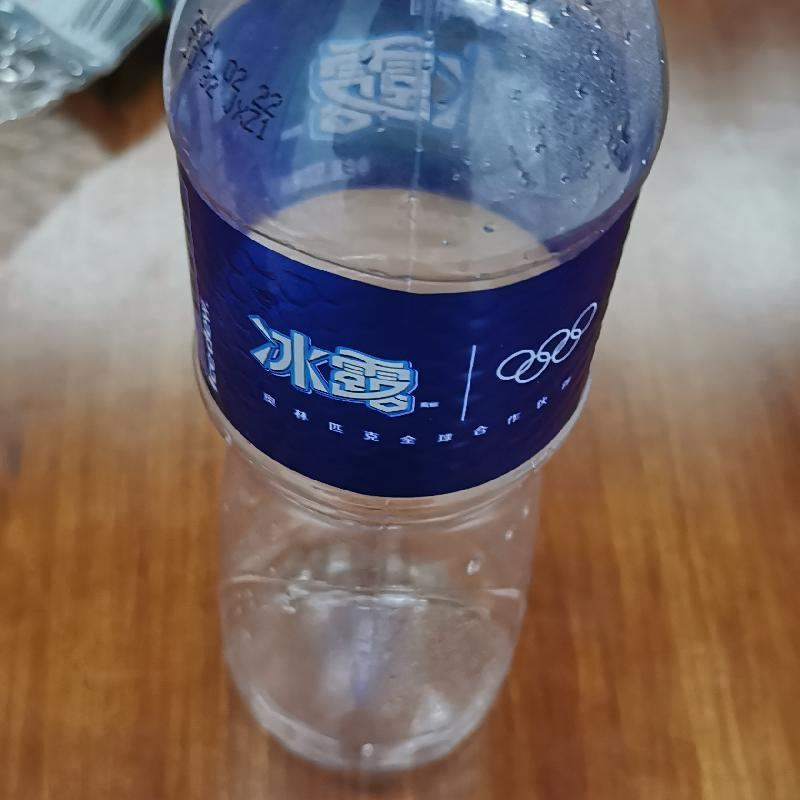bottles: (160, 0, 673, 770)
